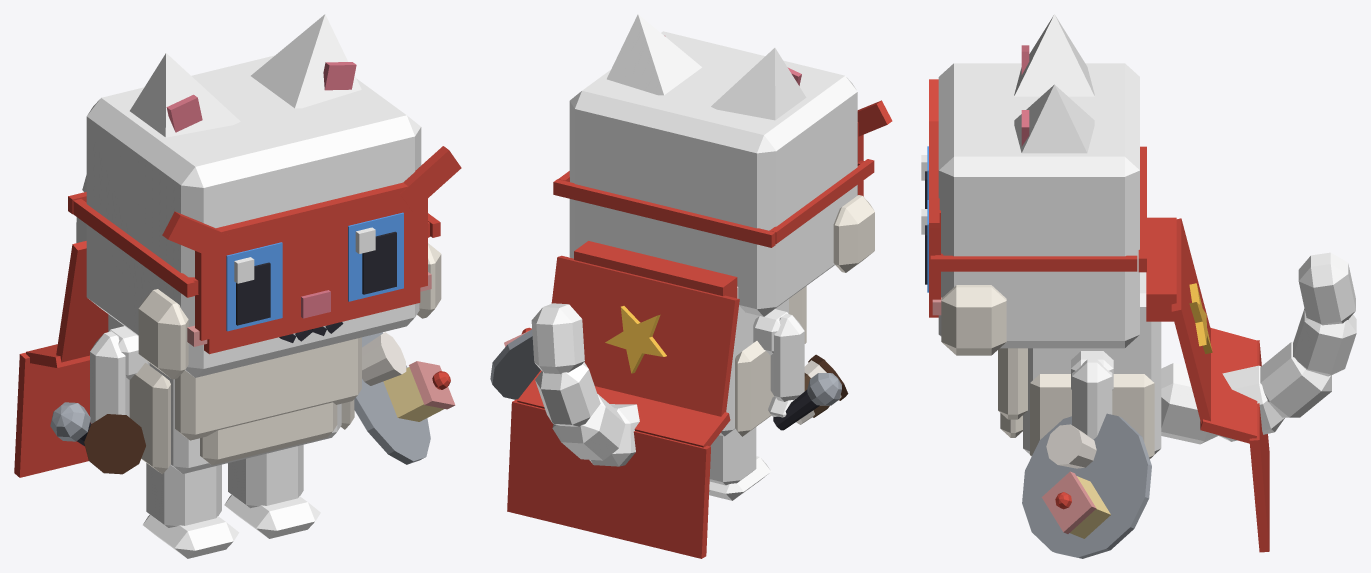
Rendered from CatCafe_Cat_Marshmallow_Work.glb.
3 views of the same model, side by side, from view 1: azimuth 30°, elevation 25°; view 2: azimuth 150°, elevation 25°; view 3: azimuth 270°, elevation 25° (orthographic). The views are drawn at different scales.
Visible parts, largest first — view 1: CatCafe_Cat_Marshmallow_Work_Head, CatCafe_Cat_Marshmallow_Work_Prop2, CatCafe_Cat_Marshmallow_Work_Body, CatCafe_Cat_Marshmallow_Work_Prop, CatCafe_Cat_Marshmallow_Work_Held_Waiter, CatCafe_Cat_Marshmallow_Work_LegB2, CatCafe_Cat_Marshmallow_Work_LegB1, CatCafe_Cat_Marshmallow_Work_EarL, CatCafe_Cat_Marshmallow_Work_EarR, CatCafe_Cat_Marshmallow_Work_Eye2, CatCafe_Cat_Marshmallow_Work_Eye1, CatCafe_Cat_Marshmallow_Work_LegF2 (+2 smaller); view 2: CatCafe_Cat_Marshmallow_Work_Head, CatCafe_Cat_Marshmallow_Work_Prop, CatCafe_Cat_Marshmallow_Work_Tail, CatCafe_Cat_Marshmallow_Work_Prop2, CatCafe_Cat_Marshmallow_Work_Body, CatCafe_Cat_Marshmallow_Work_EarL, CatCafe_Cat_Marshmallow_Work_EarR, CatCafe_Cat_Marshmallow_Work_LegB2, CatCafe_Cat_Marshmallow_Work_LegF2, CatCafe_Cat_Marshmallow_Work_Held_Waiter, CatCafe_Cat_Marshmallow_Work_Held_Entertainer, CatCafe_Cat_Marshmallow_Work_Held_Barista; view 3: CatCafe_Cat_Marshmallow_Work_Head, CatCafe_Cat_Marshmallow_Work_Held_Waiter, CatCafe_Cat_Marshmallow_Work_Tail, CatCafe_Cat_Marshmallow_Work_Prop, CatCafe_Cat_Marshmallow_Work_Body, CatCafe_Cat_Marshmallow_Work_Prop2, CatCafe_Cat_Marshmallow_Work_EarL, CatCafe_Cat_Marshmallow_Work_EarR, CatCafe_Cat_Marshmallow_Work_LegF1.
Boxes of the visible parts, bbox=[...] form: CatCafe_Cat_Marshmallow_Work_Head: bbox=[86, 55, 441, 379]; CatCafe_Cat_Marshmallow_Work_Prop2: bbox=[68, 146, 461, 354]; CatCafe_Cat_Marshmallow_Work_Body: bbox=[108, 314, 361, 474]; CatCafe_Cat_Marshmallow_Work_Prop: bbox=[14, 241, 108, 477]; CatCafe_Cat_Marshmallow_Work_Held_Waiter: bbox=[354, 332, 455, 464]; CatCafe_Cat_Marshmallow_Work_LegB2: bbox=[143, 463, 239, 558]; CatCafe_Cat_Marshmallow_Work_LegB1: bbox=[224, 444, 320, 538]; CatCafe_Cat_Marshmallow_Work_EarL: bbox=[251, 14, 361, 108]; CatCafe_Cat_Marshmallow_Work_EarR: bbox=[130, 53, 240, 137]; CatCafe_Cat_Marshmallow_Work_Eye2: bbox=[226, 242, 282, 331]; CatCafe_Cat_Marshmallow_Work_Eye1: bbox=[348, 212, 403, 301]; CatCafe_Cat_Marshmallow_Work_LegF2: bbox=[90, 331, 129, 423]; CatCafe_Cat_Marshmallow_Work_Head: bbox=[569, 31, 874, 316]; CatCafe_Cat_Marshmallow_Work_Prop: bbox=[507, 241, 739, 558]; CatCafe_Cat_Marshmallow_Work_Tail: bbox=[531, 303, 639, 466]; CatCafe_Cat_Marshmallow_Work_Prop2: bbox=[553, 100, 892, 247]; CatCafe_Cat_Marshmallow_Work_Body: bbox=[719, 286, 806, 436]; CatCafe_Cat_Marshmallow_Work_EarL: bbox=[607, 14, 701, 95]; CatCafe_Cat_Marshmallow_Work_EarR: bbox=[711, 48, 806, 120]; CatCafe_Cat_Marshmallow_Work_LegB2: bbox=[709, 427, 771, 500]; CatCafe_Cat_Marshmallow_Work_LegF2: bbox=[768, 313, 804, 417]; CatCafe_Cat_Marshmallow_Work_Held_Waiter: bbox=[490, 327, 540, 399]; CatCafe_Cat_Marshmallow_Work_Held_Entertainer: bbox=[773, 373, 841, 430]; CatCafe_Cat_Marshmallow_Work_Held_Barista: bbox=[796, 354, 848, 424]; CatCafe_Cat_Marshmallow_Work_Head: bbox=[932, 63, 1139, 355]; CatCafe_Cat_Marshmallow_Work_Held_Waiter: bbox=[1022, 413, 1151, 558]; CatCafe_Cat_Marshmallow_Work_Tail: bbox=[1161, 252, 1356, 444]; CatCafe_Cat_Marshmallow_Work_Prop: bbox=[1146, 217, 1269, 552]; CatCafe_Cat_Marshmallow_Work_Body: bbox=[998, 272, 1161, 458]; CatCafe_Cat_Marshmallow_Work_Prop2: bbox=[929, 79, 1146, 317]; CatCafe_Cat_Marshmallow_Work_EarL: bbox=[1014, 84, 1094, 153]; CatCafe_Cat_Marshmallow_Work_EarR: bbox=[1014, 14, 1094, 96]; CatCafe_Cat_Marshmallow_Work_LegF1: bbox=[1072, 359, 1112, 439].
Size of the model in its own units: 1.53 by 1.93 by 1.64.
Materials: 1 (1 with a texture image).
